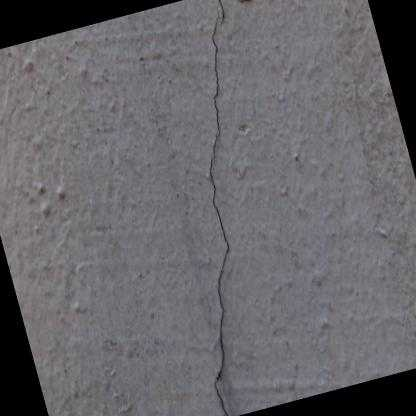crack: (209, 13, 228, 416), (218, 0, 224, 18)
